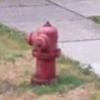a fire hydrant: (29, 22, 61, 84)
